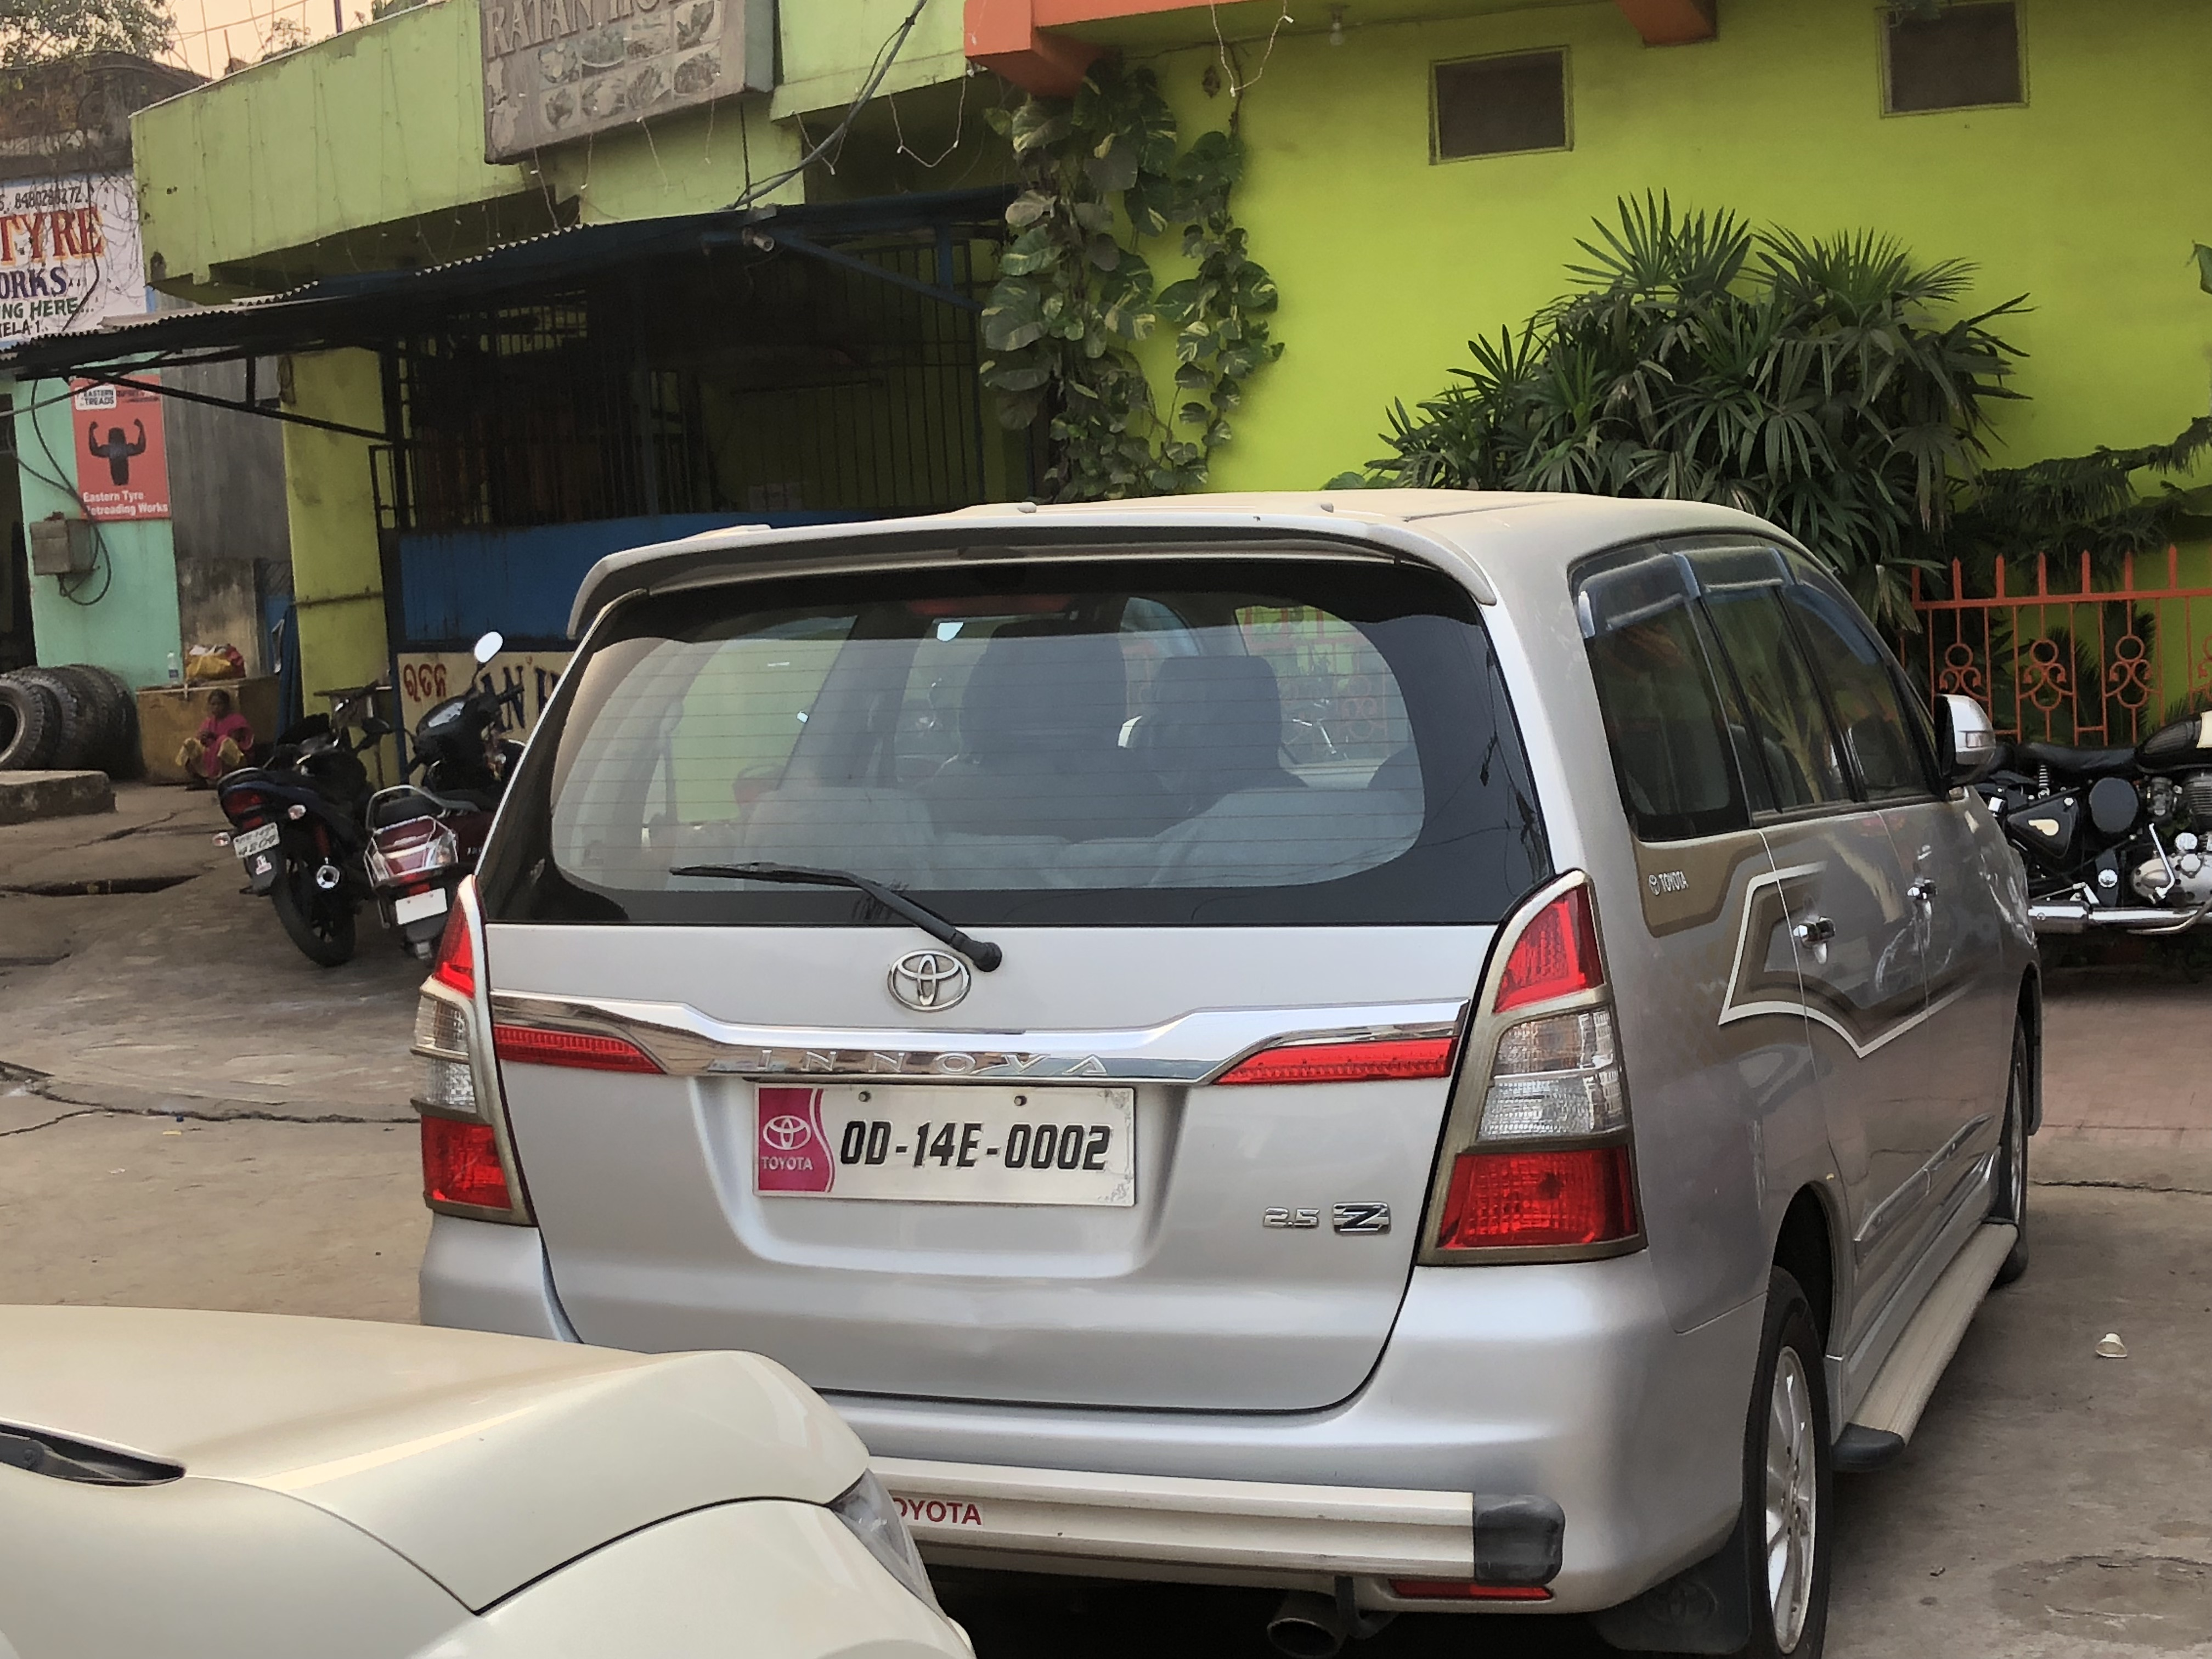licenseplate: (748, 1068, 1149, 1222)
